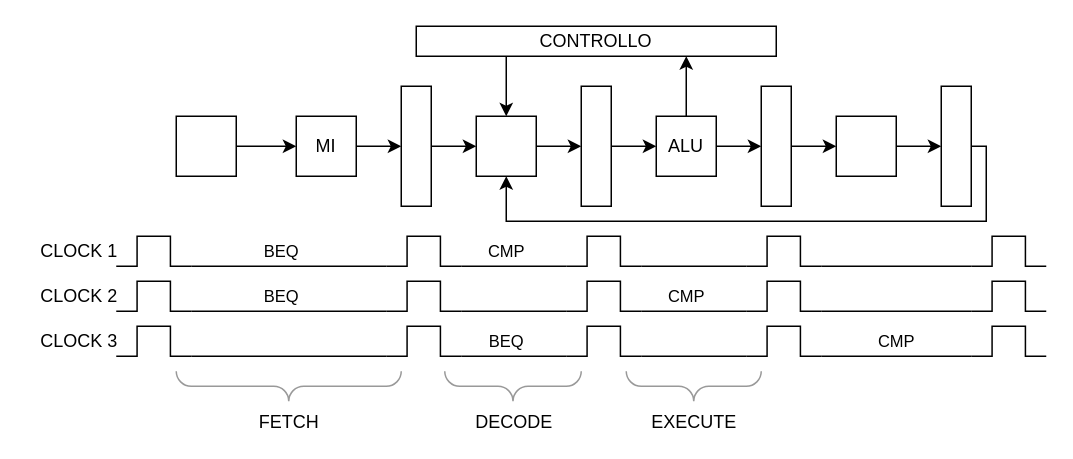
This 1073x459 diagram has some shape labels left out. The centre of each missing label's shape, as x and y in pixels:
MD: (865,145)
PC: (205,145)
REG: (505,145)
